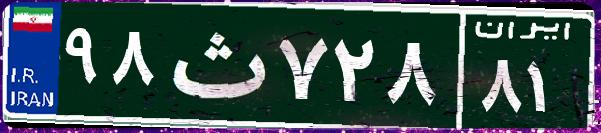1: (525, 38, 570, 115)
2: (330, 28, 385, 110)
7: (273, 28, 330, 110)
8: (385, 28, 445, 110), (475, 38, 525, 113), (110, 28, 158, 105)
9: (57, 26, 110, 107)
ث: (158, 15, 273, 115)
